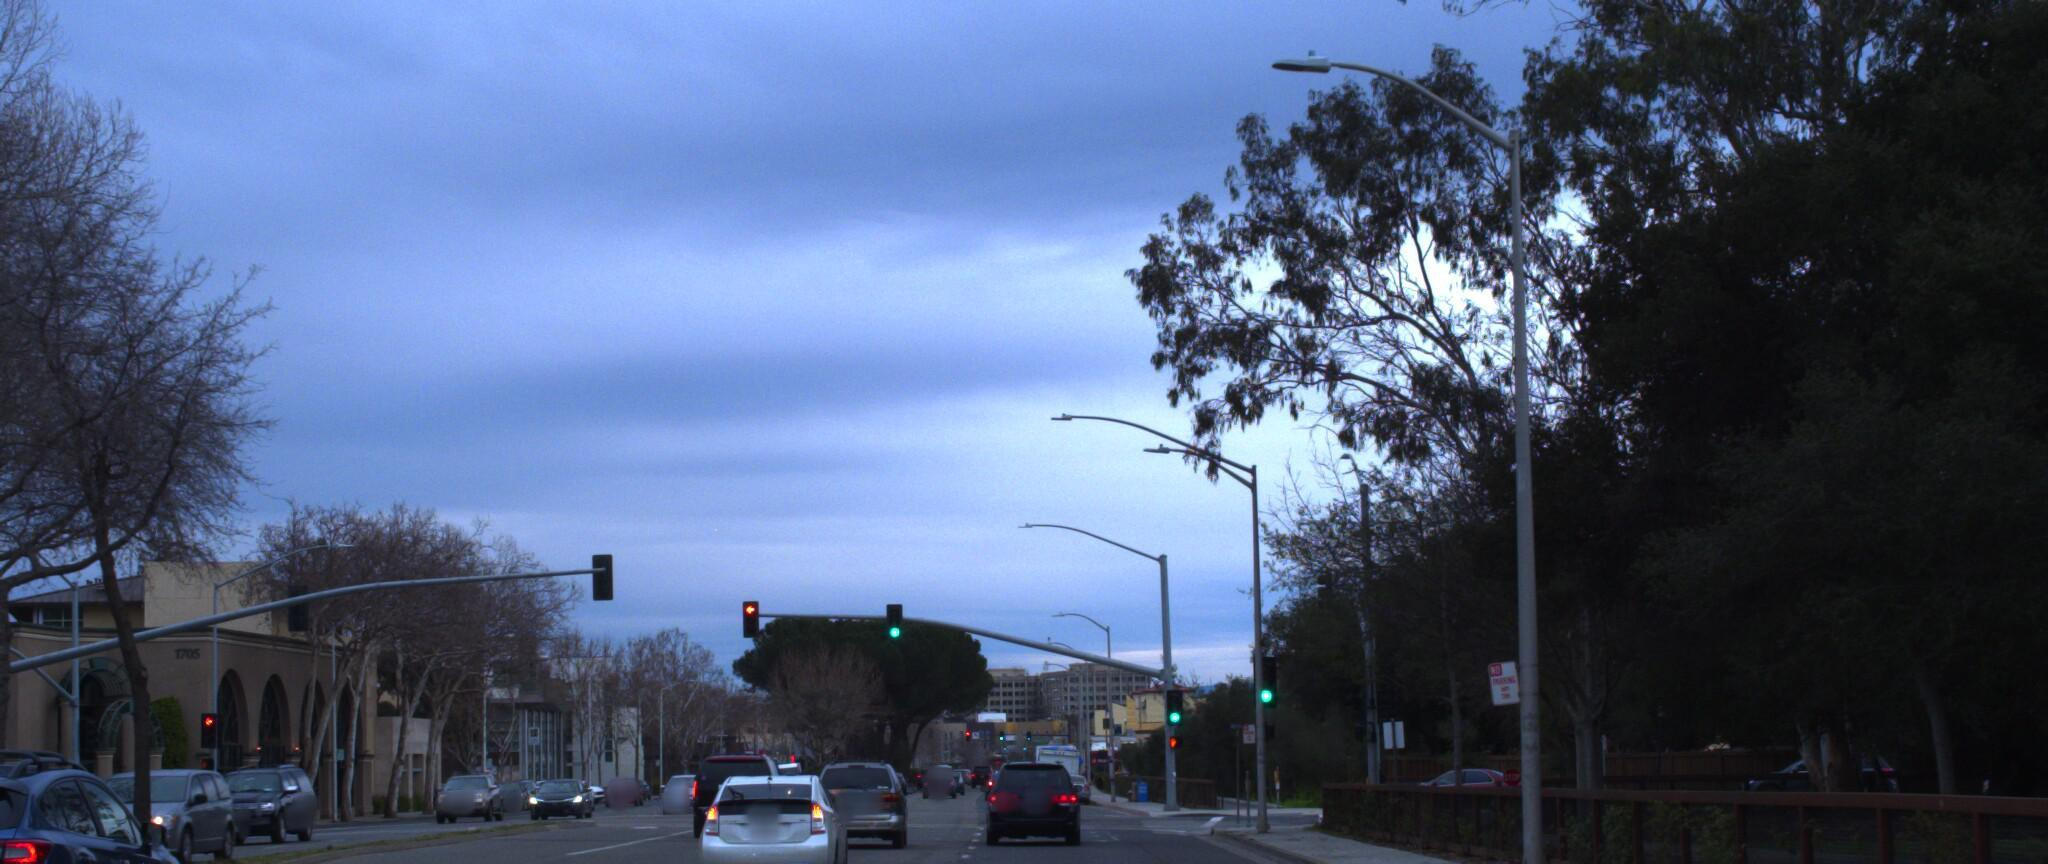car: (0, 747, 222, 864), (686, 754, 854, 864), (60, 761, 247, 857), (814, 741, 918, 834), (985, 752, 1084, 838)
